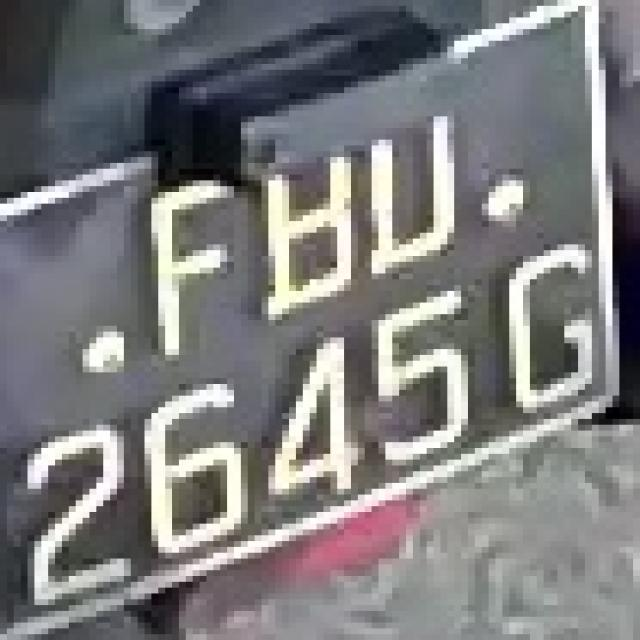2: (0, 401, 145, 617)
4: (220, 332, 386, 530)
5: (358, 285, 482, 460)
6: (138, 349, 289, 588)
B: (240, 128, 372, 337)
D: (358, 93, 475, 297)
F: (138, 169, 248, 384)
G: (482, 227, 619, 430)
